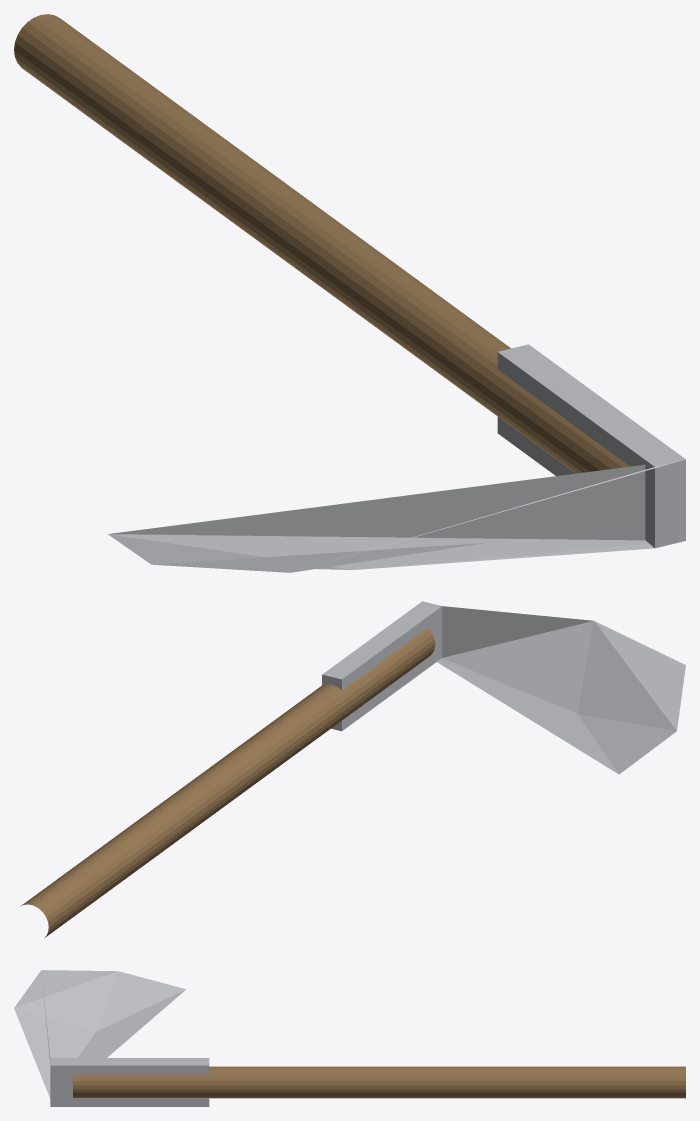
The model's file is axe.glb.
The picture shows the model from 3 angles, top to bottom: view 1: azimuth 30°, elevation 25°; view 2: azimuth 150°, elevation 25°; view 3: azimuth 270°, elevation 25°; orthographic projection. The views are drawn at different scales.
Bounding box in the file's own units: 0.615 × 0.1 × 1.48.
